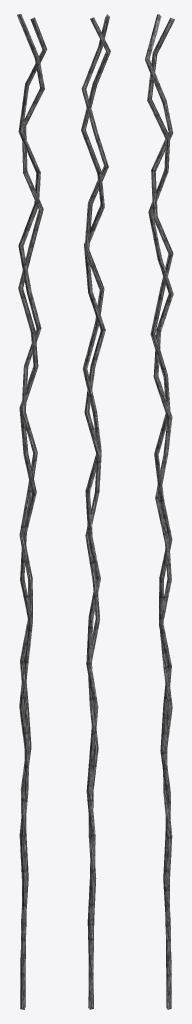
The model's file is INST_MIRK_VINE_CLIMBABLE.obj.
3 renders of one model, left to right at view 1: azimuth 90°, elevation 25°; view 2: azimuth 150°, elevation 25°; view 3: azimuth 270°, elevation 25°, orthographic.
Parts seen in each view (by area): view 1: climablevine; view 2: climablevine; view 3: climablevine.
Boxes of the visible parts, <box> form: climablevine: <box>17,14,47,1009</box>; climablevine: <box>81,14,110,1009</box>; climablevine: <box>145,14,174,1009</box>.
Size of the model in its own units: 38.78 by 1409 by 39.17.
